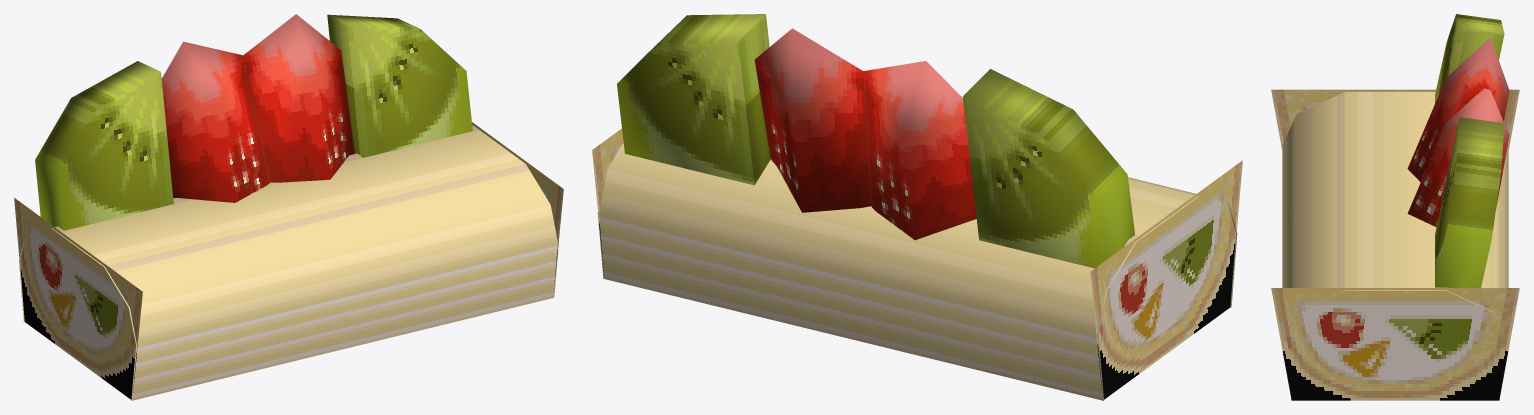
The picture shows the model from 3 angles, left to right: view 1: azimuth 30°, elevation 25°; view 2: azimuth 150°, elevation 25°; view 3: azimuth 270°, elevation 25°; orthographic projection. The views are drawn at different scales.
Parts seen in each view (by area): view 1: 3142IMFY02_04; view 2: 3142IMFY02_04; view 3: 3142IMFY02_04.
Boxes of the visible parts, x1,y1,x2,y2 form: 3142IMFY02_04: (14, 14, 563, 400); 3142IMFY02_04: (592, 14, 1242, 400); 3142IMFY02_04: (1271, 14, 1519, 400).
Size of the model in its own units: 1.93 by 1.07 by 1.02.
3 materials, 3 textured.
